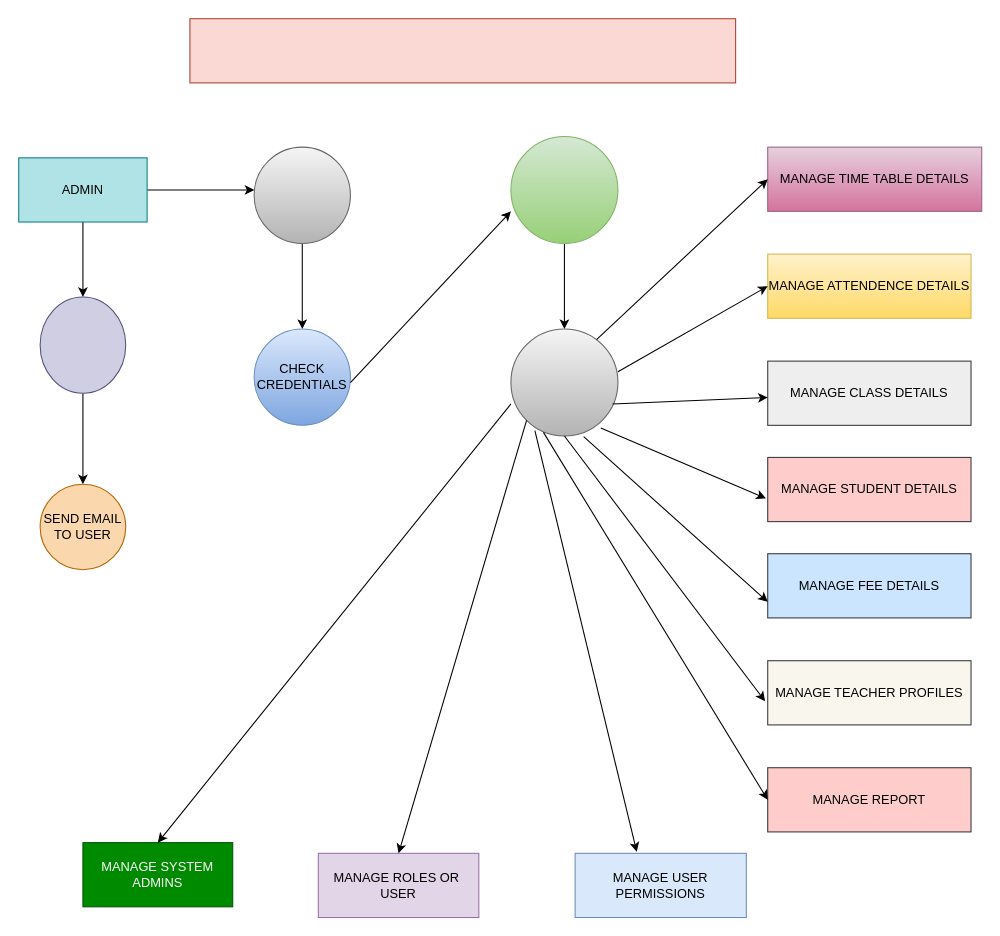
The diagram is 1000 pixels wide and 936 high, and some of its shapes have lost their labels. Here are the shapes that lost their labels. From the top down, the centre of each, then its label:
At pixel 462 50: "STUDENT INFORMTION SYSTEM".
At pixel 301 194: "LOGIN TO SYETEM".
At pixel 564 189: "CHEC K RULES OF ACCESS".
At pixel 82 344: "FORGET PASSWORD".
At pixel 564 382: "MANAGE MODULES".
